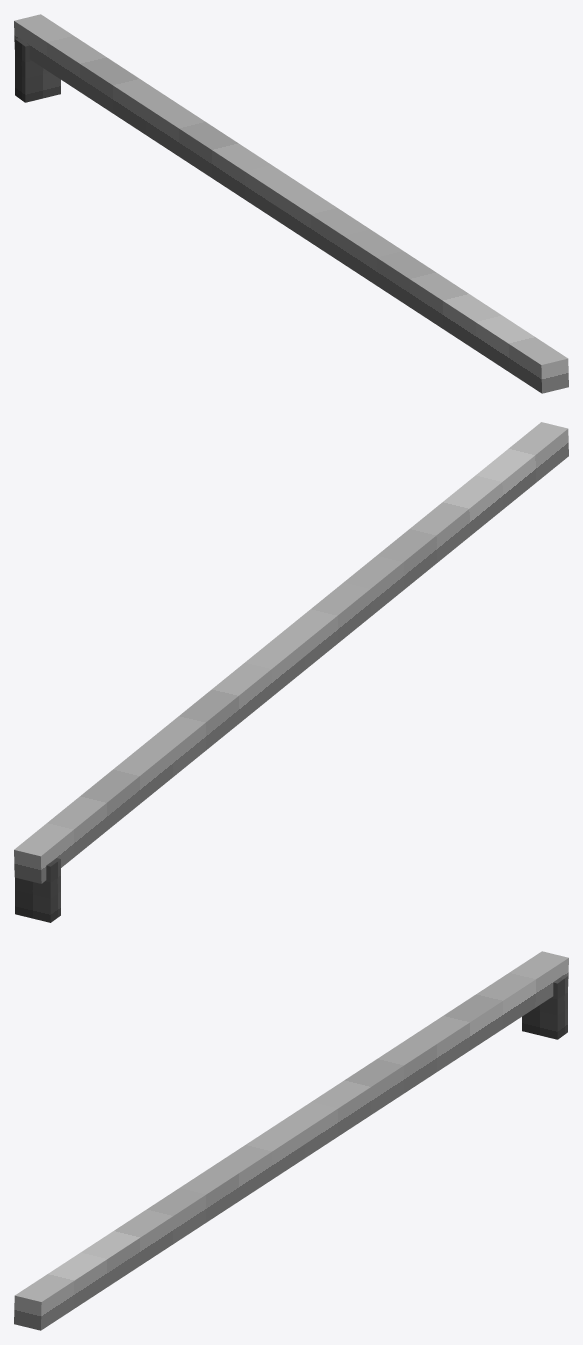
Rendered from contact_wire_holder_center.obj.
The picture shows the model from 3 angles, top to bottom: view 1: azimuth 30°, elevation 25°; view 2: azimuth 150°, elevation 25°; view 3: azimuth 330°, elevation 25°; orthographic projection.
Visible parts, largest first — view 1: p33, p32; view 2: p33, p32; view 3: p33, p32.
Boxes of the visible parts, x1=… form: p33: x1=14, y1=14, x2=568, y2=393; p32: x1=15, y1=38, x2=60, y2=102; p33: x1=14, y1=422, x2=568, y2=883; p32: x1=15, y1=858, x2=60, y2=922; p33: x1=14, y1=951, x2=568, y2=1330; p32: x1=522, y1=975, x2=567, y2=1039.
Bounding box in the file's own units: 0.0625 × 0.1852 × 1.59.
